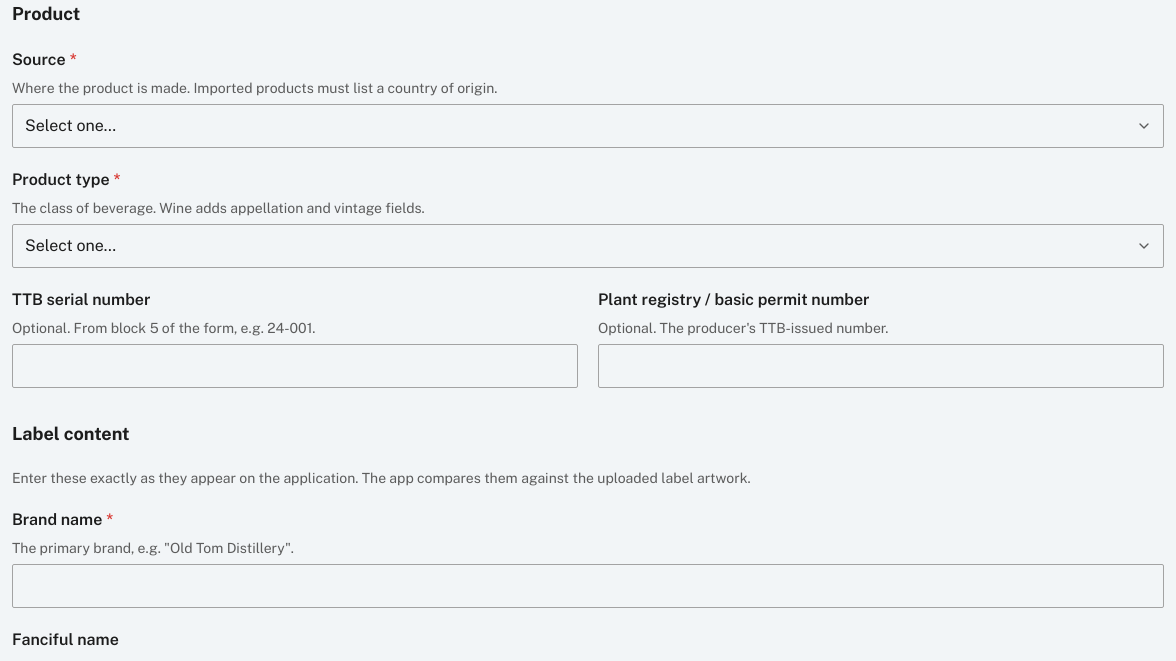
Scenario: ApplicationForm › reveals wine-only fields when the product type is wine
The width and height of the screenshot is (1176, 661).
Select "Wine" in the dropdown labelled "Product type*" at {"x": 588, "y": 246}, box [12, 224, 1164, 268]
(page scrolled)
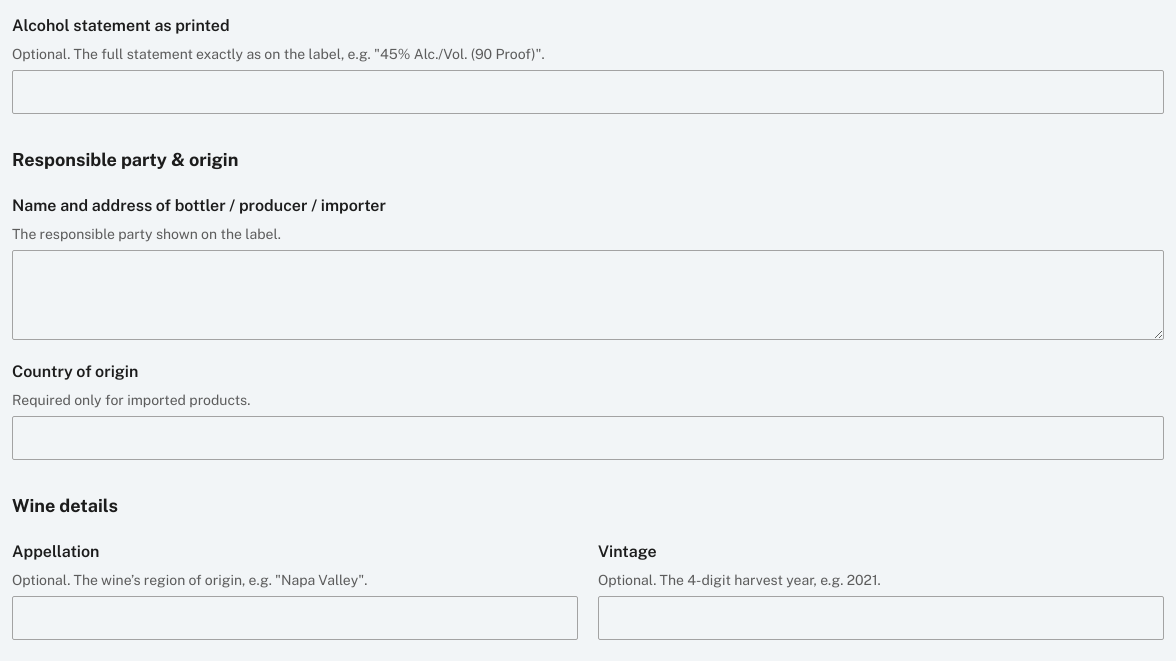
Result: the field labelled "Vintage" is shown at [598, 596, 1164, 640]
Result: the field labelled "Appellation" is shown at [12, 596, 578, 640]
